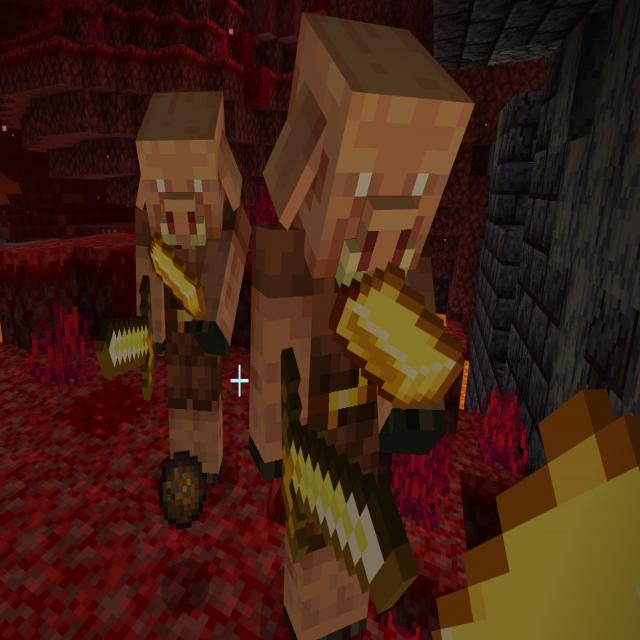Piglin: (246, 18, 477, 638), (95, 89, 250, 485)
